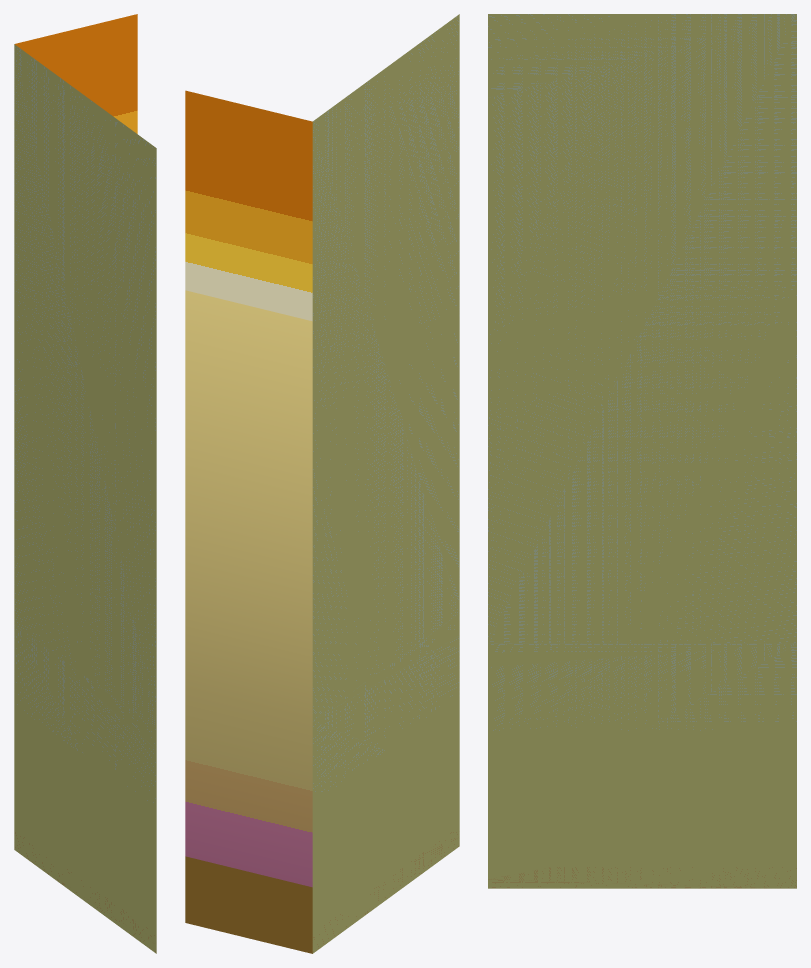
3 views of the same model, side by side, from view 1: azimuth 30°, elevation 25°; view 2: azimuth 150°, elevation 25°; view 3: azimuth 270°, elevation 25° (orthographic). The views are drawn at different scales.
Size of the model in its own units: 0.5 by 3.12 by 1.
Materials: 2 (2 with a texture image).
